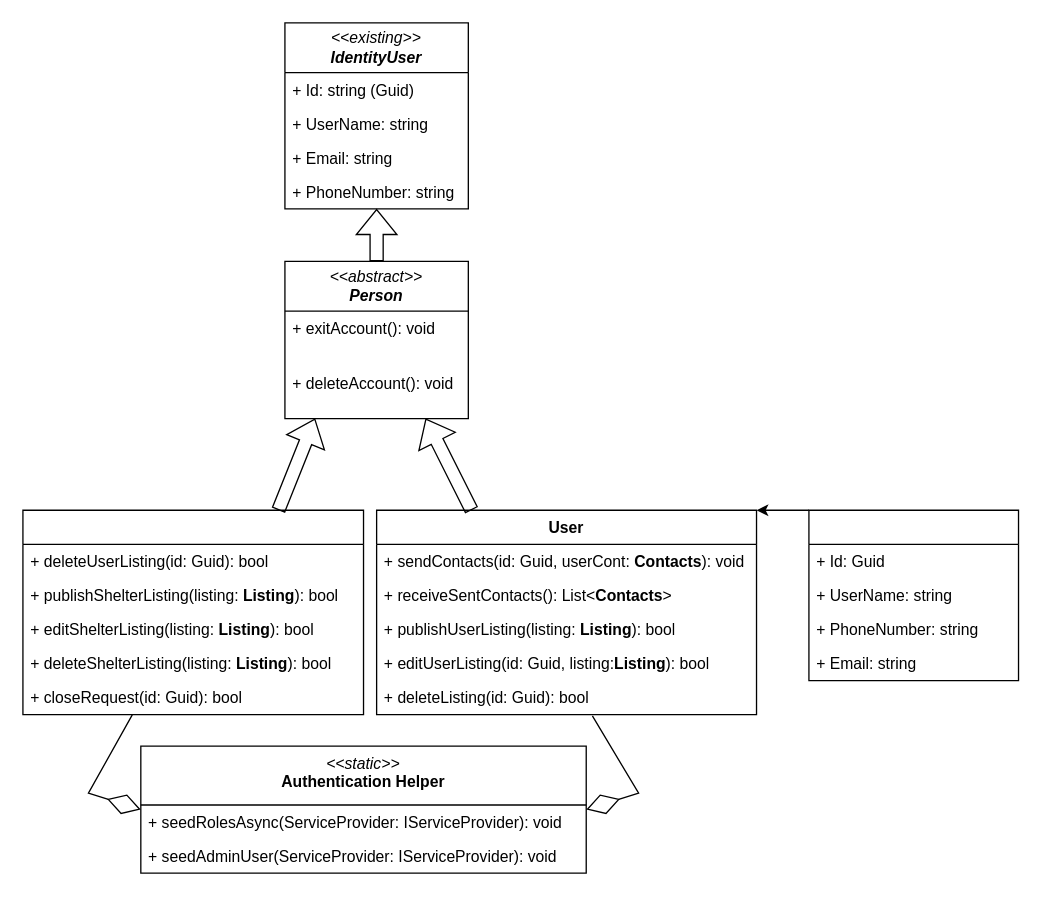
This 1041x900 diagram has some shape labels left out. Here are the shapes that lost their labels. From the top down, the box of each, then its label:
(22, 509, 364, 715): Manager
(808, 509, 1019, 681): Contacts
